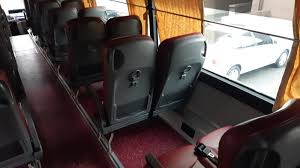seat: (157, 133, 222, 168)
